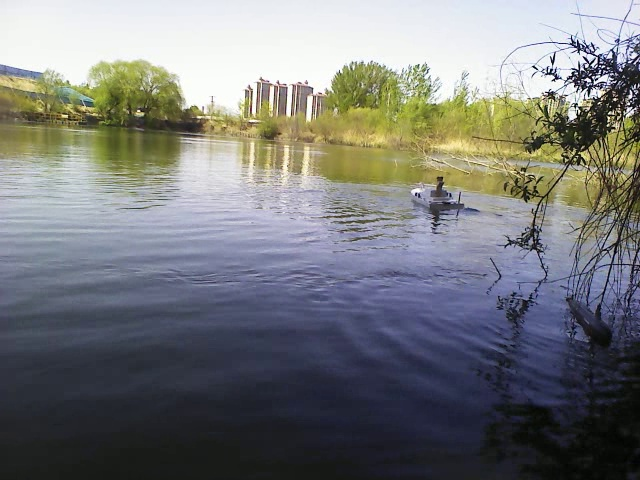boat: (409, 174, 471, 213)
